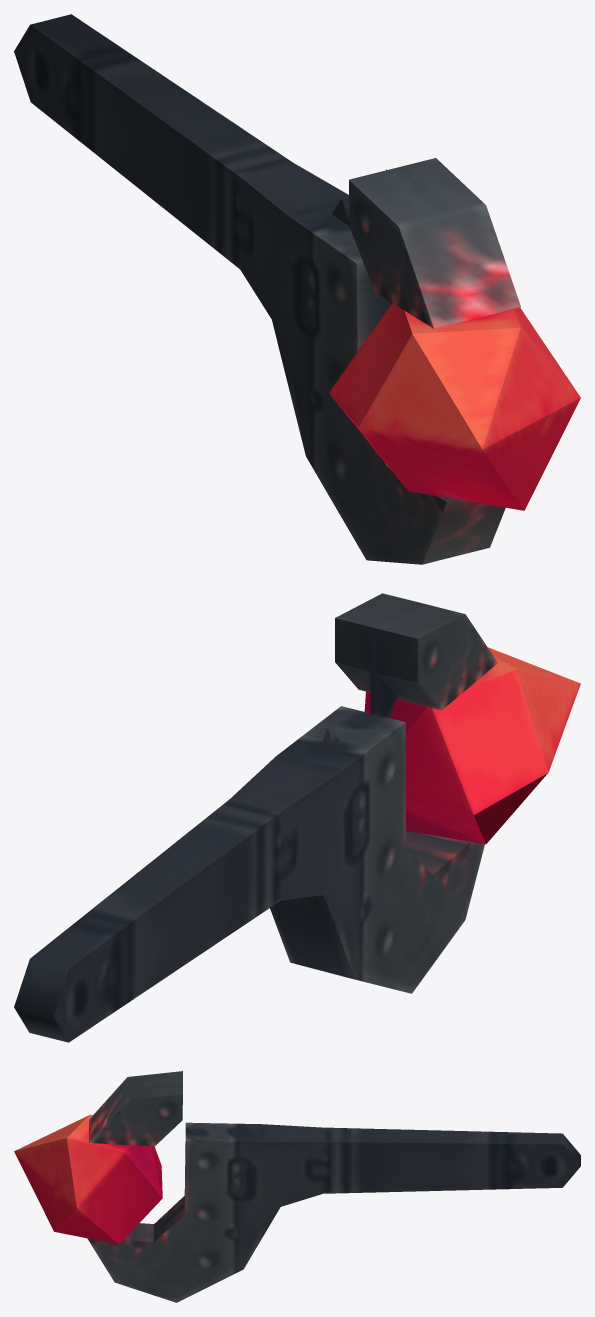
Rendered from model_sml.glb.
3 renders of one model, top to bottom at view 1: azimuth 30°, elevation 25°; view 2: azimuth 150°, elevation 25°; view 3: azimuth 270°, elevation 25°, orthographic. The views are drawn at different scales.
Parts seen in each view (by area): view 1: wrench_wand.model_sml-MeshNodes["mesh_wand"]; view 2: wrench_wand.model_sml-MeshNodes["mesh_wand"]; view 3: wrench_wand.model_sml-MeshNodes["mesh_wand"].
Part boxes in pixels (x1,y1,x2,y2): wrench_wand.model_sml-MeshNodes["mesh_wand"]: (14,14,580,564); wrench_wand.model_sml-MeshNodes["mesh_wand"]: (14,593,580,1042); wrench_wand.model_sml-MeshNodes["mesh_wand"]: (14,1071,580,1302).
Size of the model in its own units: 0.2321 by 0.421 by 1.03.
Materials: 1 (1 with a texture image).
